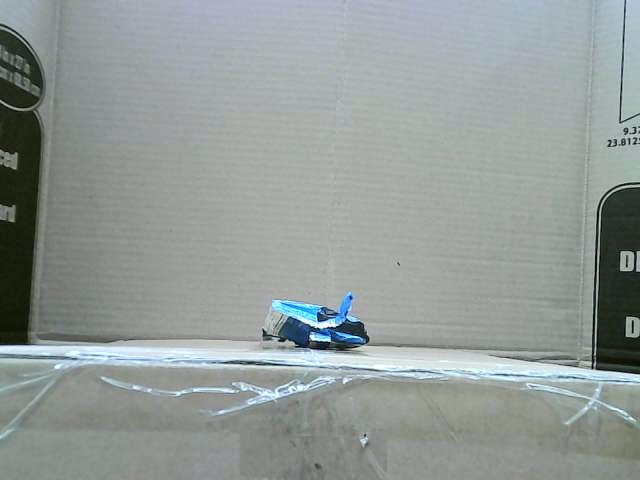CandyWrapper: (260, 292, 370, 351)
